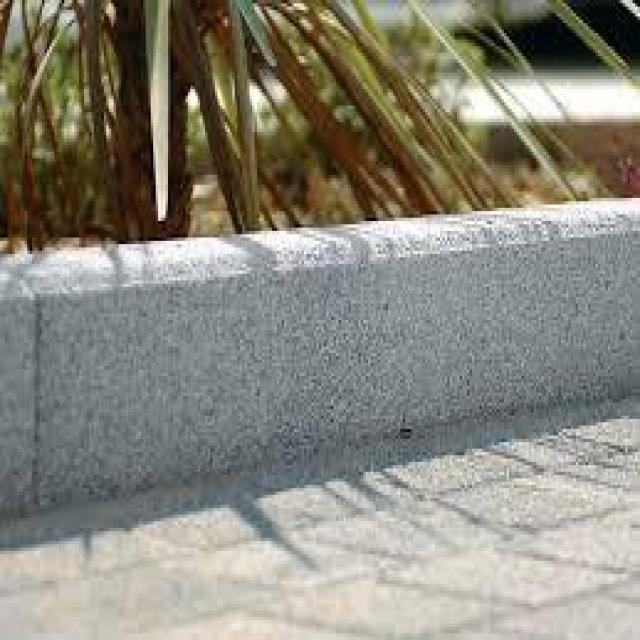curb: (1, 196, 640, 515)
